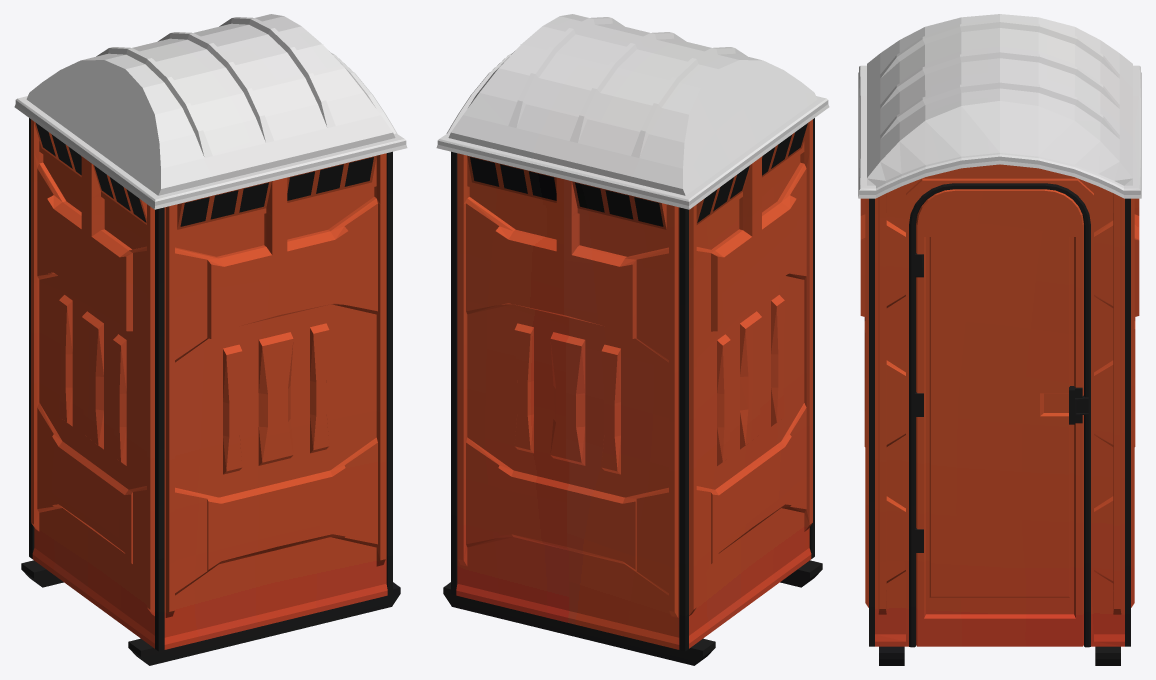
The model's file is Construction_Porta.fbx.
3 renders of one model, left to right at view 1: azimuth 30°, elevation 25°; view 2: azimuth 150°, elevation 25°; view 3: azimuth 270°, elevation 25°, orthographic.
Visible parts, largest first — view 1: SM_City_Construction_Porta_01.mo; view 2: SM_City_Construction_Porta_01.mo; view 3: SM_City_Construction_Porta_01.mo.
Part boxes in pixels (x1,y1,x2,y2): SM_City_Construction_Porta_01.mo: (14,14,407,665); SM_City_Construction_Porta_01.mo: (436,14,829,665); SM_City_Construction_Porta_01.mo: (858,14,1141,665).
Size of the model in its own units: 134 by 272 by 126.
